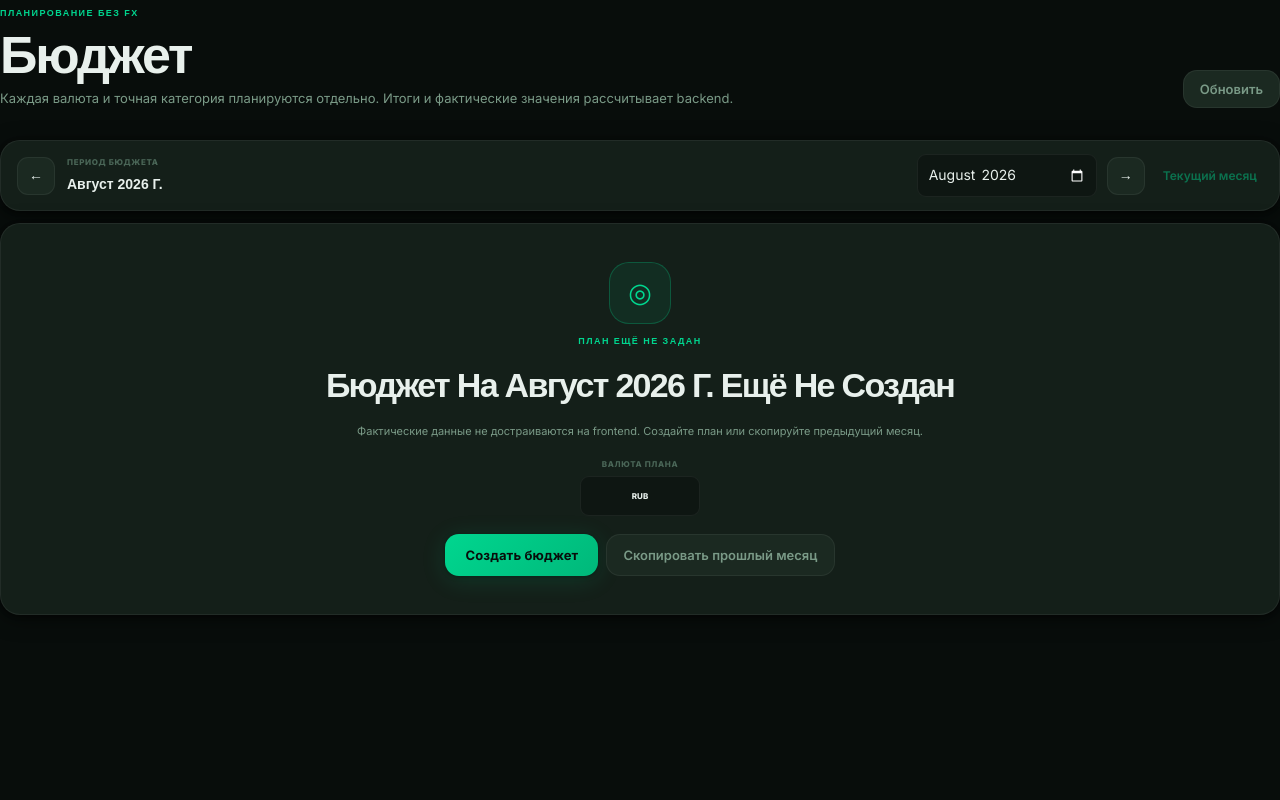
Test: empty month shows honest create/copy actions and viewer remains read-only
Click the button "Создать бюджет" at point(522, 555), box x1=446 y1=534 x2=598 y2=576
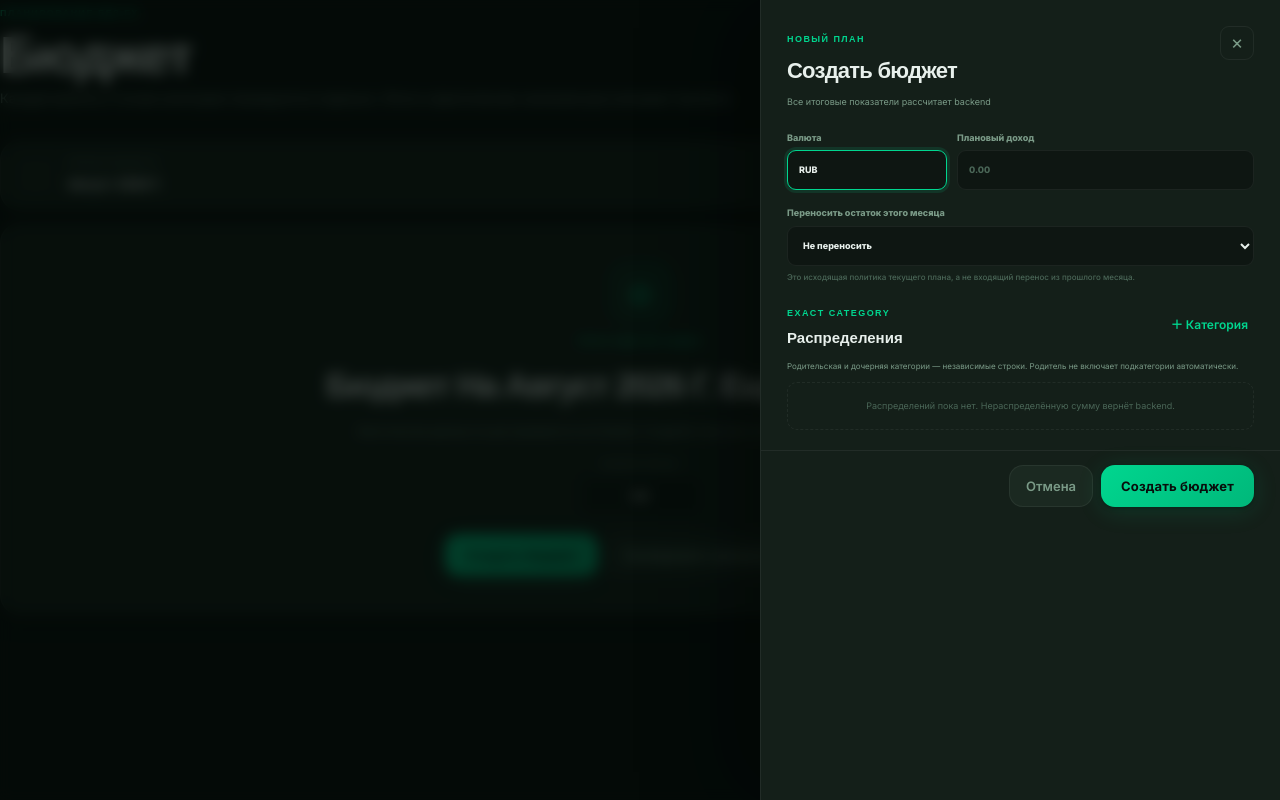
Result: the dialog is shown at x1=760 y1=0 x2=1279 y2=799
